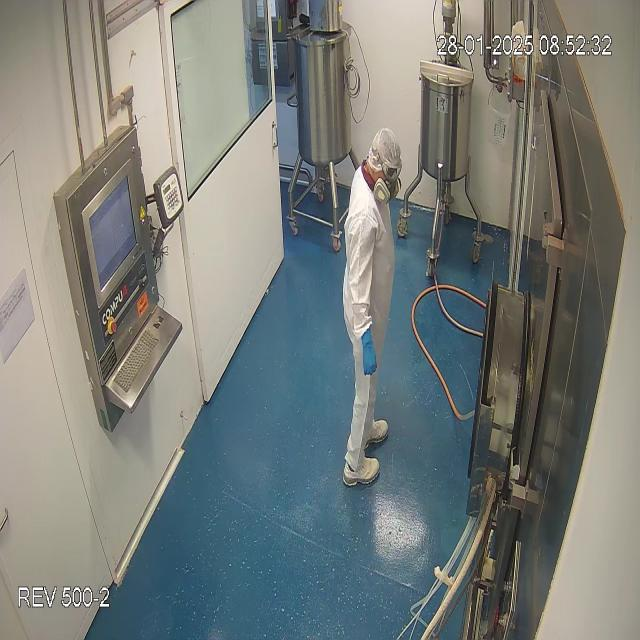bota: (340, 416, 392, 487)
pessoa: (342, 130, 404, 487)
touca: (362, 126, 402, 185)
